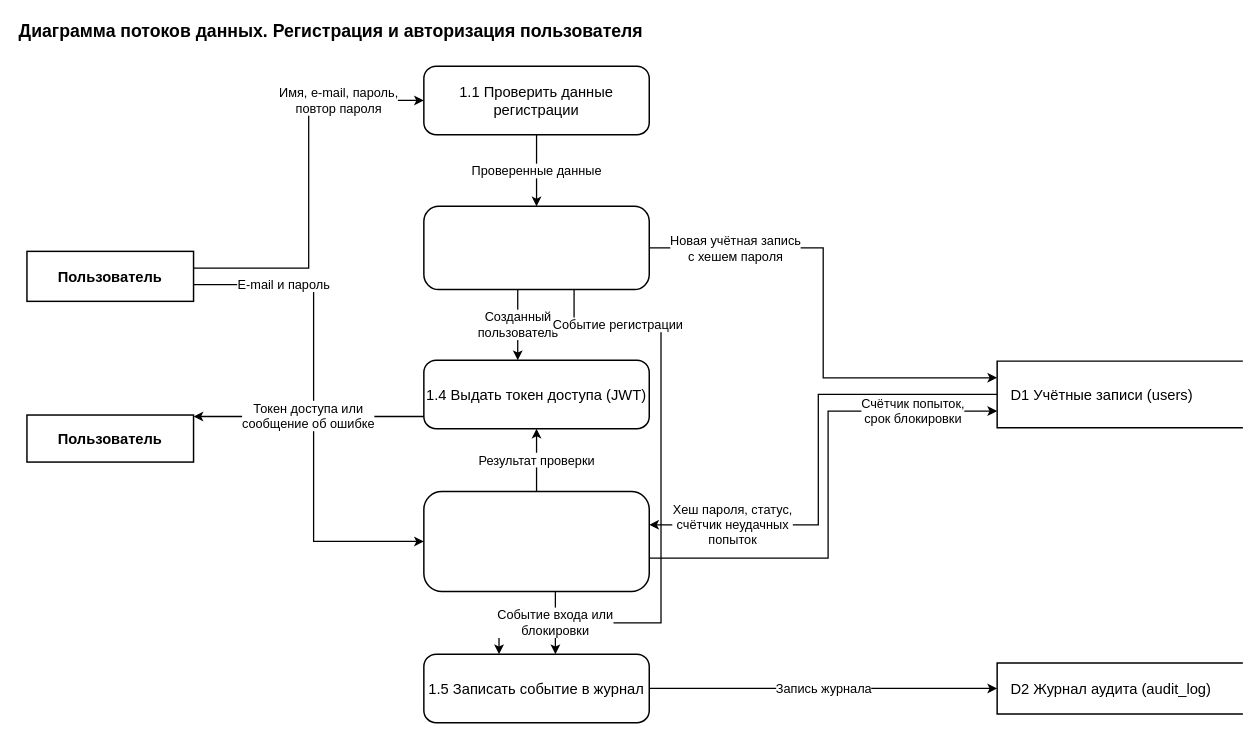
Image size: 1259x740. Some labels were removed from this diagram. Here are the shapes that lost their labels. From the top down, the box of each, then its label:
(423, 205, 650, 290): 1.2 Создать учётную запись
(423, 490, 650, 592): 1.3 Проверить пароль, статус и блокировку входа
